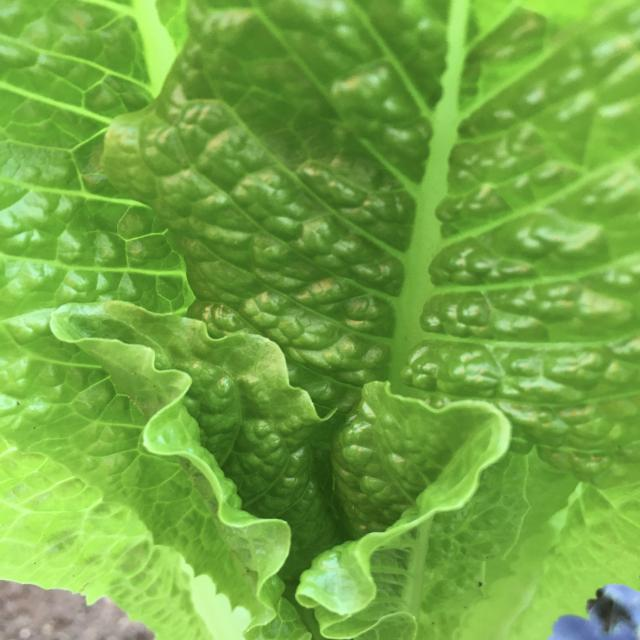Healthy Lettuce: (3, 3, 636, 636), (3, 299, 299, 636)
